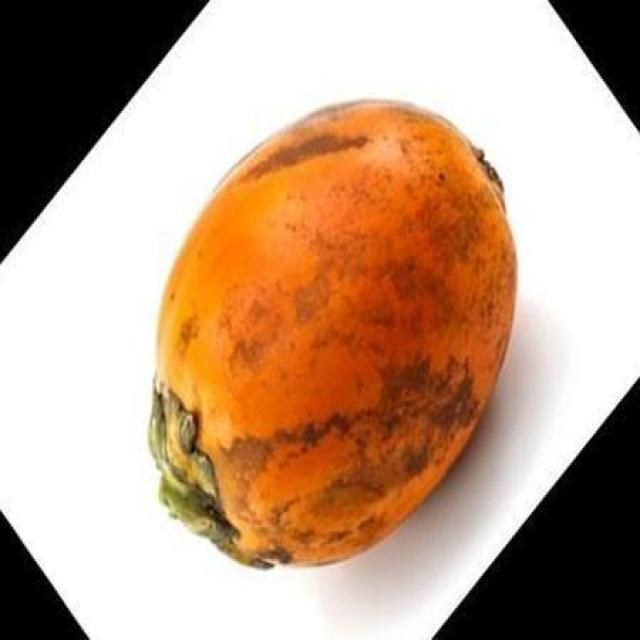good: (145, 100, 518, 570)
